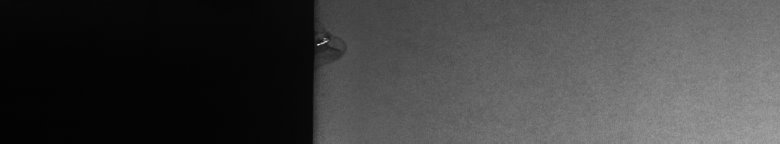hb: (324, 24, 350, 70)
